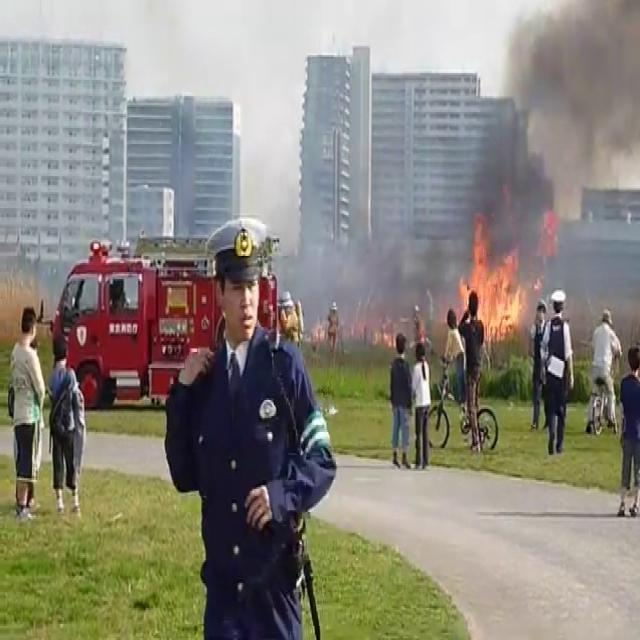Fire: (453, 220, 531, 338)
Smoke: (456, 0, 640, 277)
